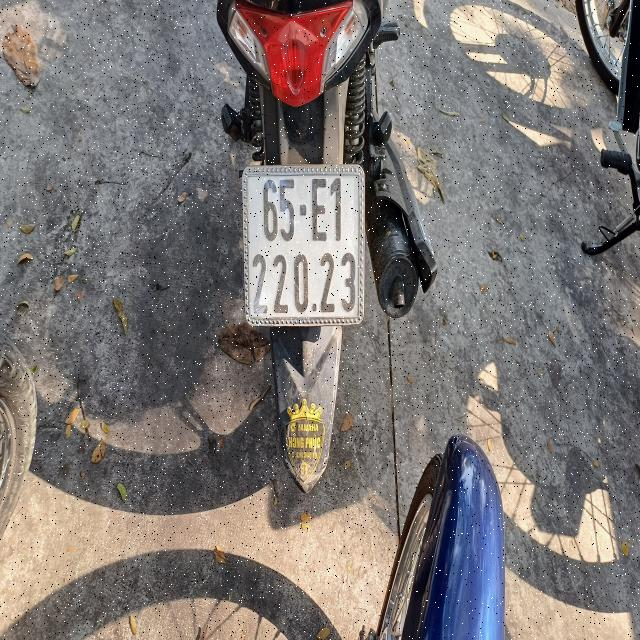0: (292, 250, 311, 313)
2: (248, 253, 271, 314), (319, 252, 337, 315), (272, 254, 290, 314)
3: (340, 252, 356, 316)
5: (278, 178, 296, 245)
6: (262, 178, 278, 244)
E: (308, 177, 328, 246), (330, 179, 343, 243)
